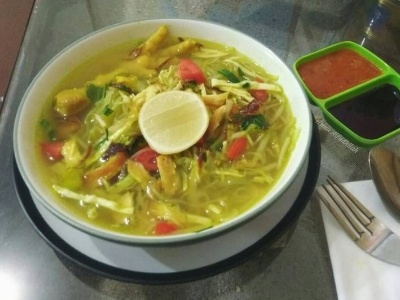soto: (48, 44, 276, 218)
